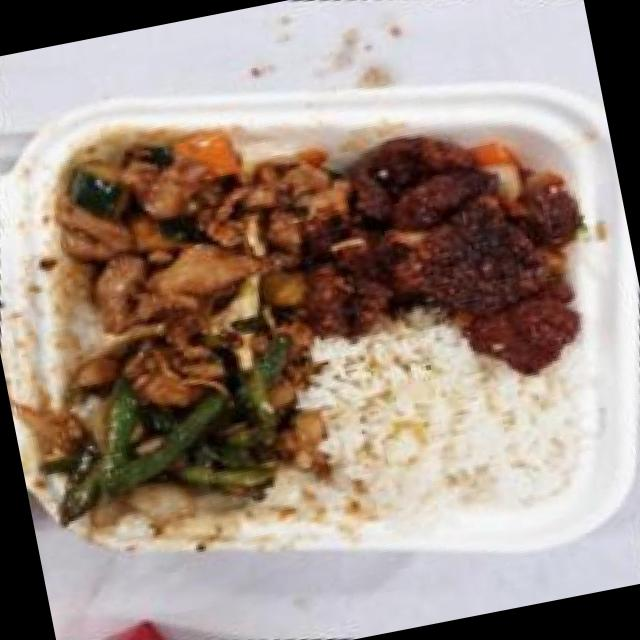Beijing Beef: (272, 82, 633, 430)
Kung Pao Chicken: (11, 73, 368, 388)
String Bean Chicken Breast: (26, 284, 340, 564)
White Steamed Rice: (283, 298, 605, 568)
